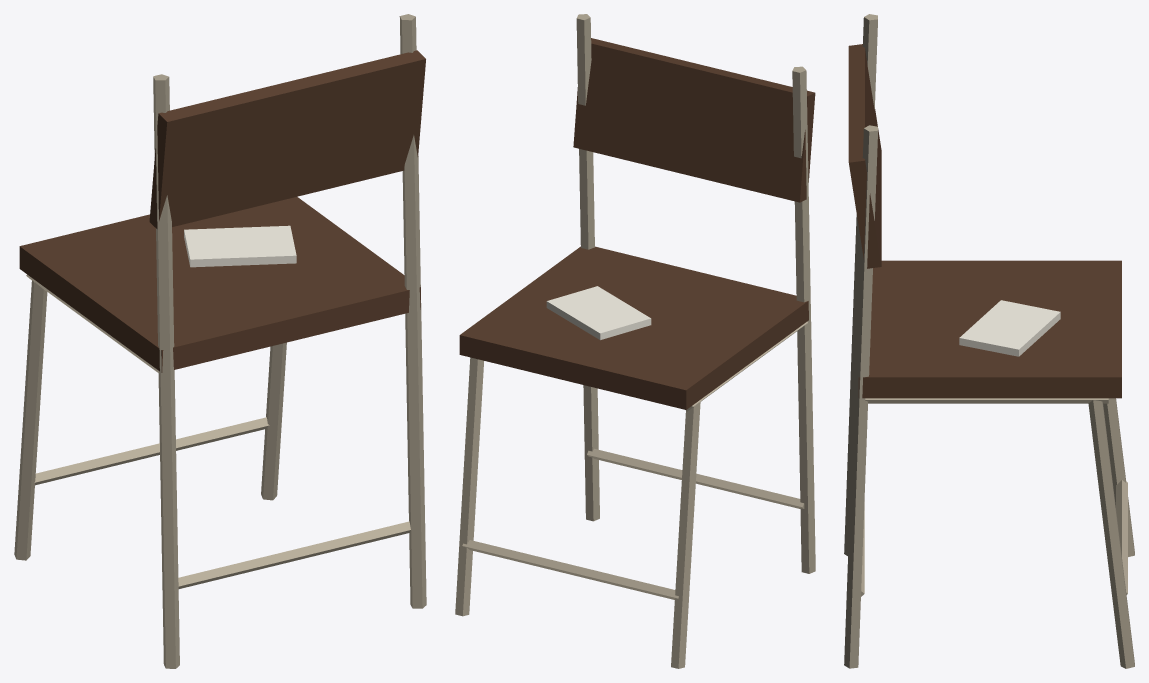
File: ToastChair.obj
3 views of the same model, side by side, from view 1: azimuth 30°, elevation 25°; view 2: azimuth 150°, elevation 25°; view 3: azimuth 270°, elevation 25° (orthographic). The views are drawn at different scales.
Visible parts, largest first — view 1: ToastChair; view 2: ToastChair; view 3: ToastChair.
Boxes of the visible parts, x1,y1,x2,y2 form: ToastChair: (14, 14, 426, 668); ToastChair: (455, 14, 815, 668); ToastChair: (844, 14, 1134, 668).
Bounding box in the file's own units: 0.4228 × 0.9017 × 0.4416.
1 material, 1 textured.
